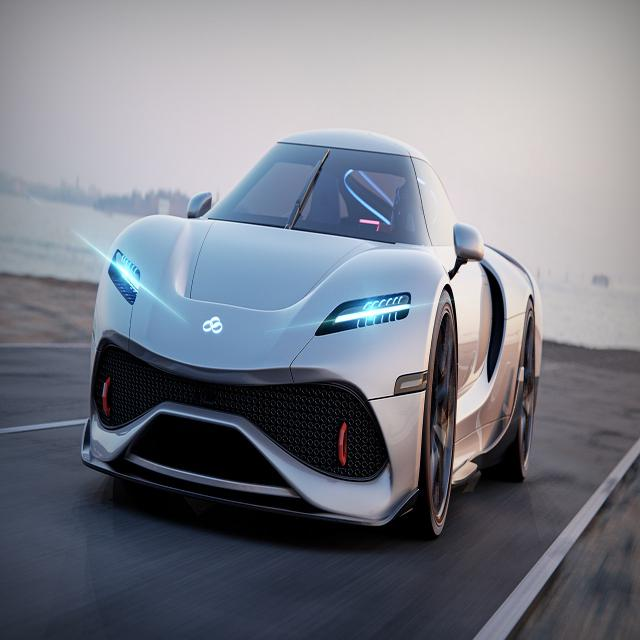car: (81, 53, 544, 570)
